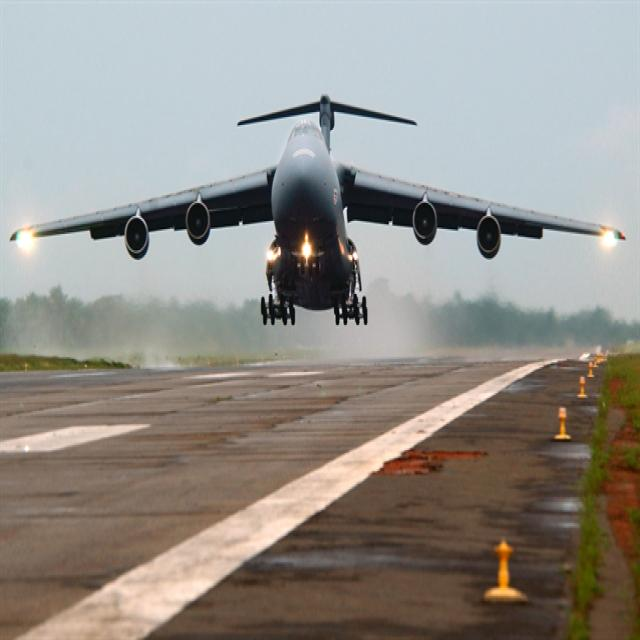C5: (6, 48, 640, 391)
